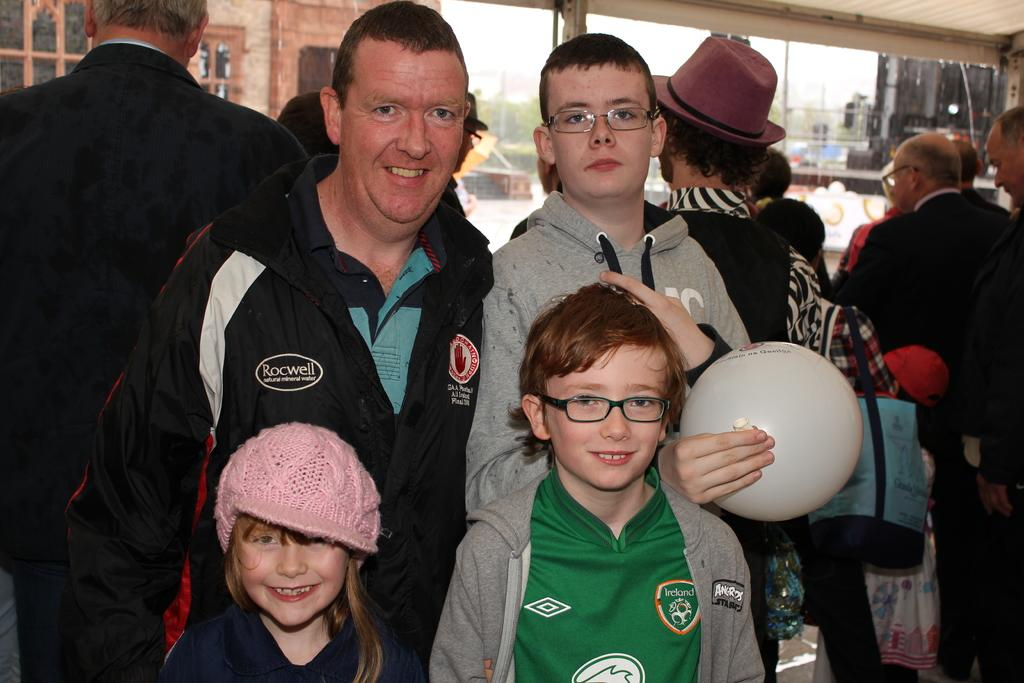Hat: (196, 407, 396, 556), (640, 23, 794, 152)
